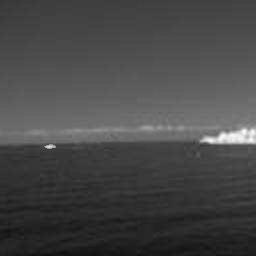Target: (43, 143, 56, 150)
